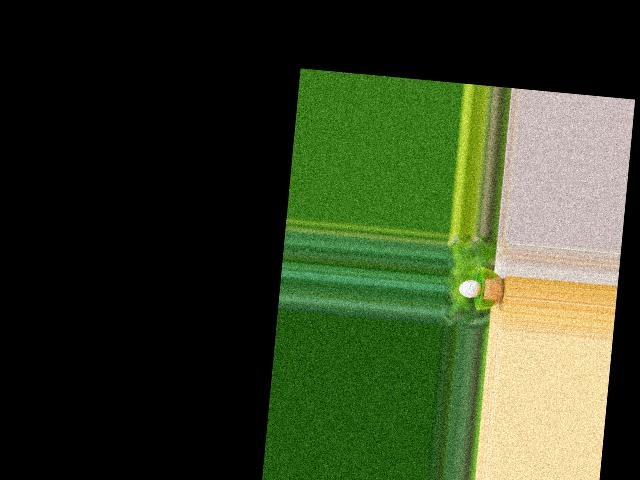egg: (458, 278, 482, 298)
